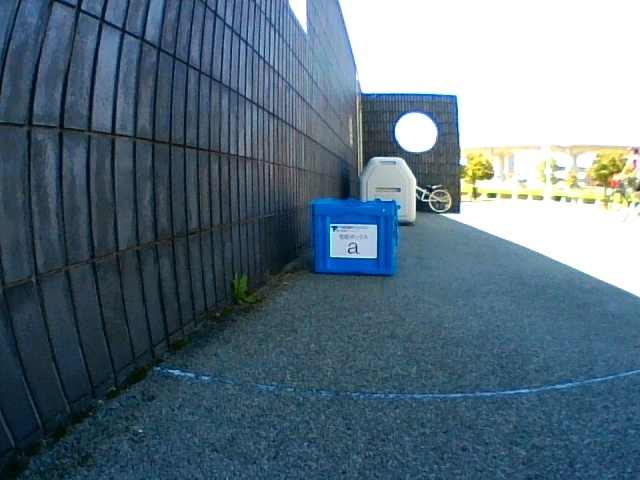blue_box: (310, 197, 399, 276)
tag_a: (331, 225, 375, 256)
